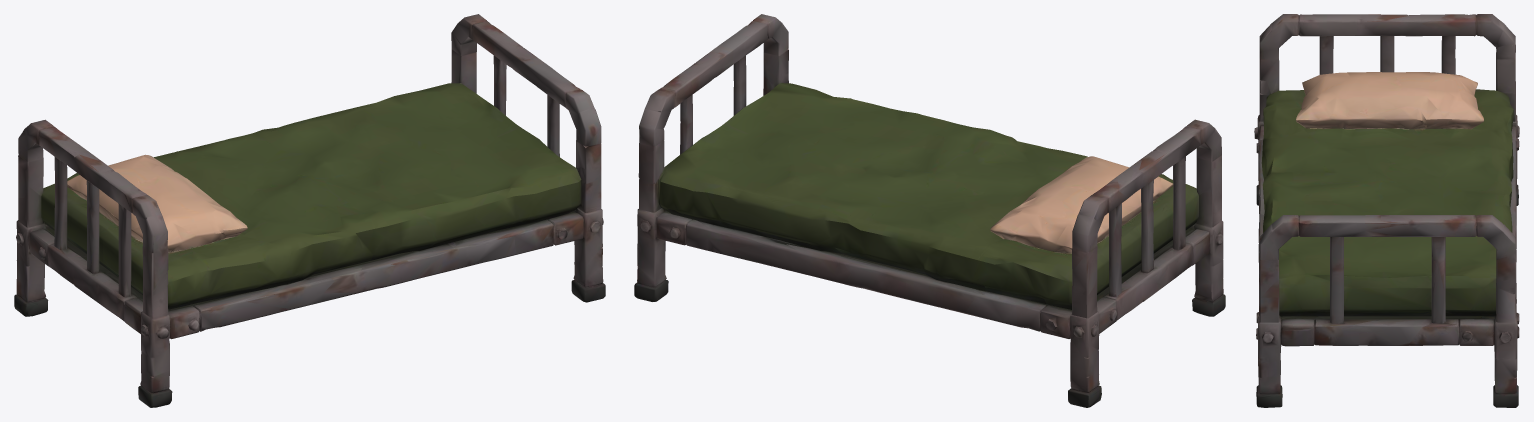
Rendered from cot_medical_skladnaya_idle.glb.
The picture shows the model from 3 angles, left to right: view 1: azimuth 30°, elevation 25°; view 2: azimuth 150°, elevation 25°; view 3: azimuth 270°, elevation 25°; orthographic projection. The views are drawn at different scales.
Visible parts, largest first — view 1: tripo_node_df84c927-7ba7-4d82-85cb-018883c76272; view 2: tripo_node_df84c927-7ba7-4d82-85cb-018883c76272; view 3: tripo_node_df84c927-7ba7-4d82-85cb-018883c76272.
Part boxes in pixels (box(x1,y1,x2,y2)): tripo_node_df84c927-7ba7-4d82-85cb-018883c76272: box(14, 14, 605, 407); tripo_node_df84c927-7ba7-4d82-85cb-018883c76272: box(634, 14, 1225, 407); tripo_node_df84c927-7ba7-4d82-85cb-018883c76272: box(1254, 14, 1519, 407).
Bounding box in the file's own units: 1.9 × 0.7741 × 1.
Materials: 1 (1 with a texture image).
